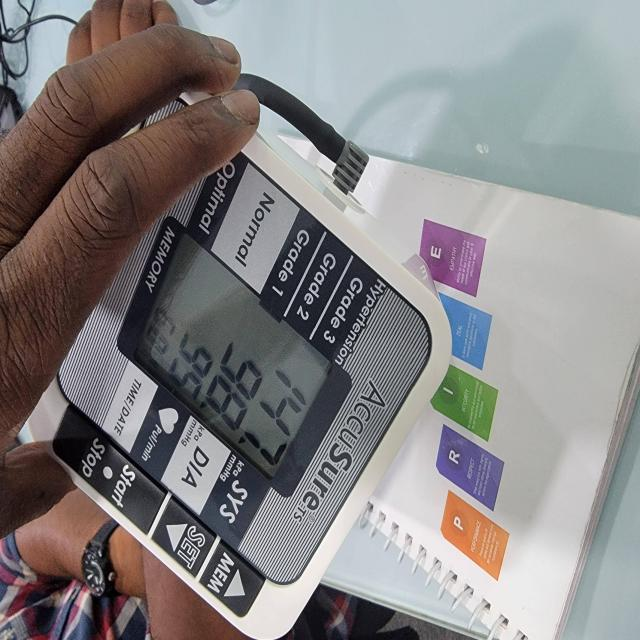bp: (46, 137, 449, 640)
